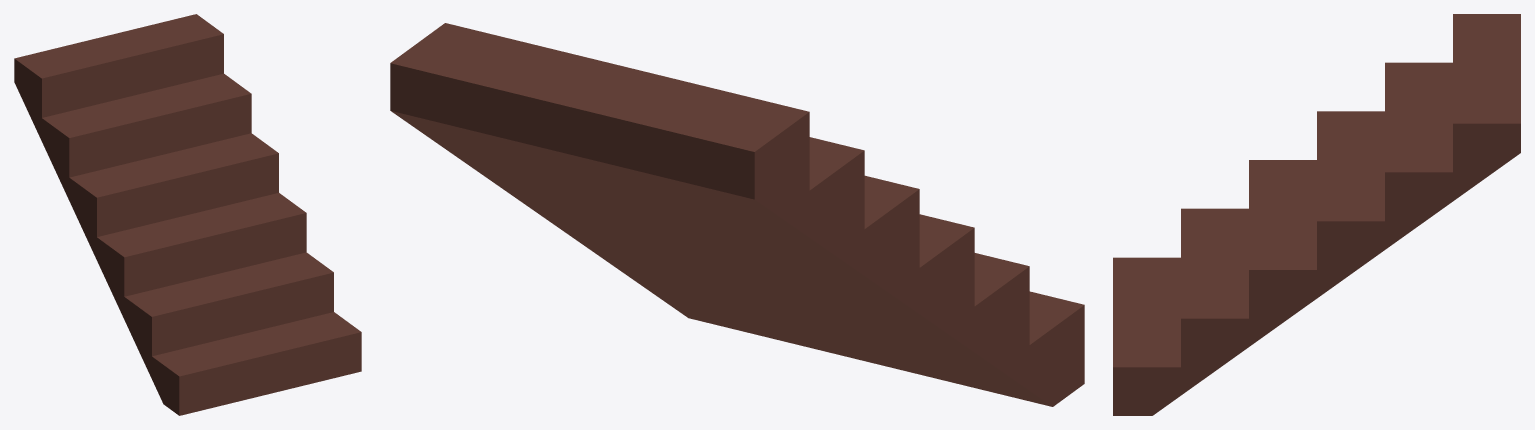
The model's file is Stairs_013.glb.
The picture shows the model from 3 angles, left to right: view 1: azimuth 30°, elevation 25°; view 2: azimuth 150°, elevation 25°; view 3: azimuth 270°, elevation 25°; orthographic projection. The views are drawn at different scales.
Visible parts, largest first — view 1: Stairs_013; view 2: Stairs_013; view 3: Stairs_013.
Part boxes in pixels (left/top/right/bottom): Stairs_013: left=14, top=14, right=361, bottom=415; Stairs_013: left=390, top=23, right=1084, bottom=406; Stairs_013: left=1113, top=14, right=1520, bottom=415.
Bounding box in the file's own units: 1.62 × 2.01 × 2.54.
Materials: 1 (1 with a texture image).
